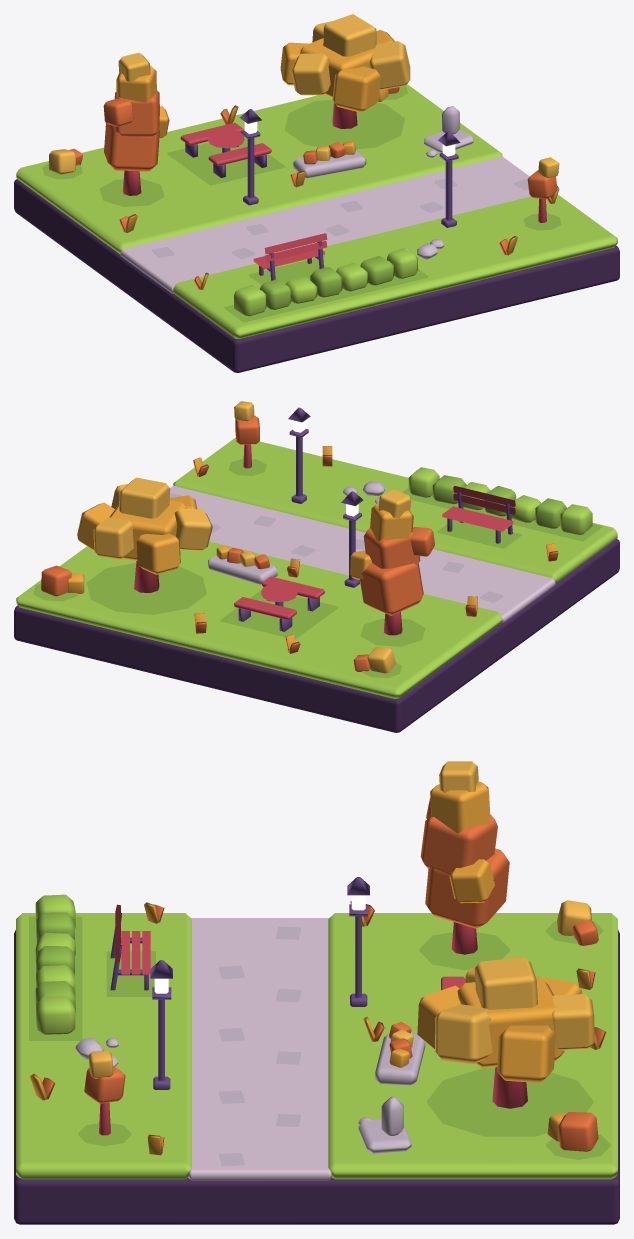
Rendered from park2.glb.
3 renders of one model, top to bottom at view 1: azimuth 30°, elevation 25°; view 2: azimuth 150°, elevation 25°; view 3: azimuth 270°, elevation 25°, orthographic. The views are drawn at different scales.
Visible parts, largest first — view 1: Park2_Grass, Park2_Base, Park2_Paving, Park2_GrassShadow, Park2_Leaf2, Park2_Leaf, Park2_Leaf3, Park2_Red, Park2_Rock, Park2_Purple; view 2: Park2_Grass, Park2_Base, Park2_GrassShadow, Park2_Paving, Park2_Leaf3, Park2_Leaf, Park2_Leaf2, Park2_Red, Park2_Purple, Park2_Rock; view 3: Park2_Grass, Park2_Paving, Park2_Base, Park2_GrassShadow, Park2_Leaf, Park2_Leaf2, Park2_Leaf3, Park2_Rock, Park2_Red, Park2_Purple.
Part boxes in pixels (<box>): Park2_Grass: <box>16,84,617,339</box>; Park2_Base: <box>14,179,619,372</box>; Park2_Paving: <box>120,156,530,293</box>; Park2_GrassShadow: <box>42,86,561,322</box>; Park2_Leaf2: <box>49,14,559,177</box>; Park2_Leaf: <box>116,29,559,289</box>; Park2_Leaf3: <box>69,87,557,289</box>; Park2_Red: <box>122,102,546,269</box>; Park2_Rock: <box>152,106,528,259</box>; Park2_Purple: <box>185,109,460,280</box>; Park2_Grass: <box>16,437,617,698</box>; Park2_Base: <box>14,539,619,732</box>; Park2_GrassShadow: <box>33,458,602,677</box>; Park2_Paving: <box>170,486,555,622</box>; Park2_Leaf3: <box>41,415,558,671</box>; Park2_Leaf: <box>67,446,555,653</box>; Park2_Leaf2: <box>93,401,411,673</box>; Park2_Red: <box>134,444,515,635</box>; Park2_Purple: <box>238,407,512,631</box>; Park2_Rock: <box>170,481,503,602</box>; Park2_Grass: <box>16,894,617,1179</box>; Park2_Paving: <box>188,918,331,1180</box>; Park2_Base: <box>14,930,619,1224</box>; Park2_GrassShadow: <box>29,912,610,1159</box>; Park2_Leaf: <box>30,781,599,1155</box>; Park2_Leaf2: <box>88,761,594,1078</box>; Park2_Leaf3: <box>42,798,605,1152</box>; Park2_Rock: <box>75,926,425,1166</box>; Park2_Red: <box>99,904,527,1135</box>; Park2_Purple: <box>110,877,369,1089</box>.
Bounding box in the file's own units: 3.2 × 1.45 × 3.2.
